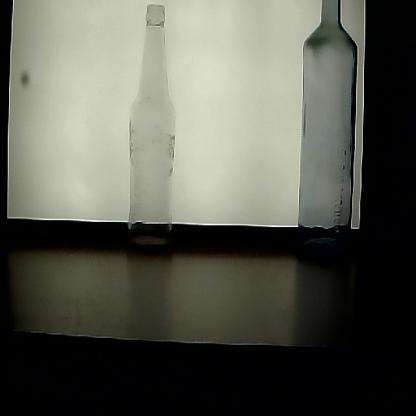Can: (294, 0, 360, 265), (122, 3, 180, 260)
